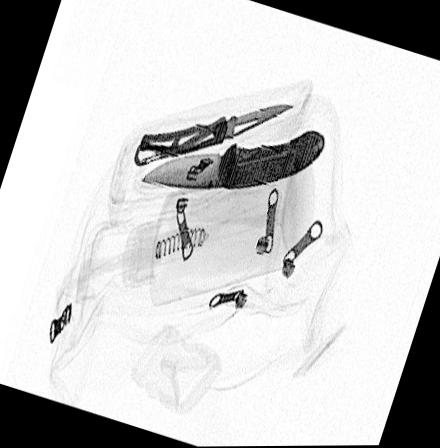Knife: (139, 130, 325, 191), (132, 103, 293, 167)
